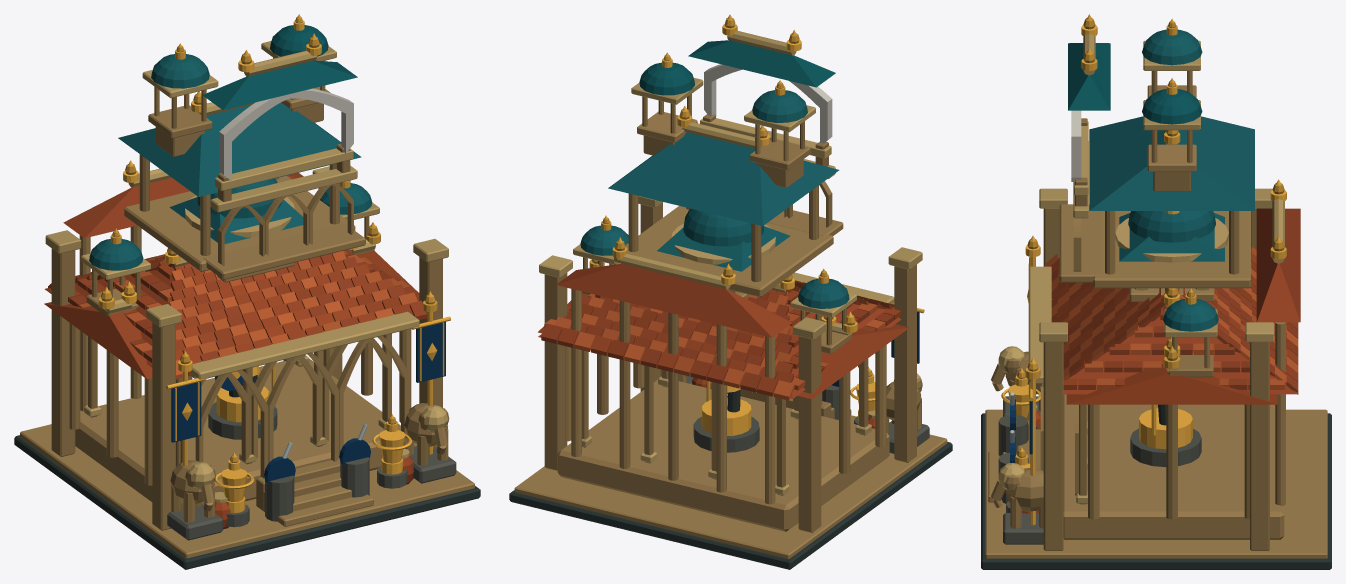
The picture shows the model from 3 angles, left to right: view 1: azimuth 30°, elevation 25°; view 2: azimuth 150°, elevation 25°; view 3: azimuth 270°, elevation 25°; orthographic projection. The views are drawn at different scales.
Parts seen in each view (by area): view 1: hero_hall_level14_structure, hero_hall_level14_metal; view 2: hero_hall_level14_structure, hero_hall_level14_metal; view 3: hero_hall_level14_structure, hero_hall_level14_metal.
Part boxes in pixels (left/top/right/bottom): hero_hall_level14_structure: left=14, top=17, right=480, bottom=569; hero_hall_level14_metal: left=98, top=14, right=450, bottom=513; hero_hall_level14_structure: left=509, top=18, right=952, bottom=569; hero_hall_level14_metal: left=589, top=14, right=924, bottom=435; hero_hall_level14_structure: left=981, top=18, right=1331, bottom=569; hero_hall_level14_metal: left=1001, top=14, right=1286, bottom=525.
Bounding box in the file's own units: 5.6 × 8.2 × 5.6.
